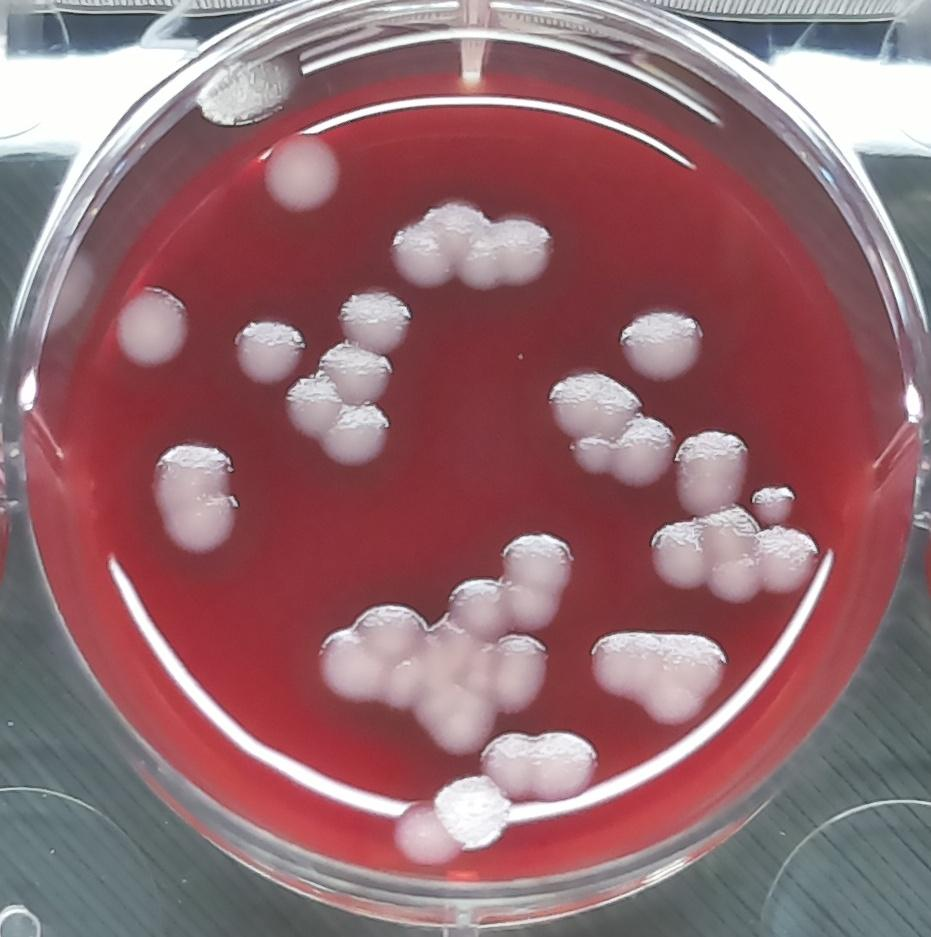bcereus: (542, 356, 679, 498), (386, 188, 560, 299), (589, 626, 742, 732), (448, 522, 586, 638), (142, 434, 250, 566), (281, 339, 395, 461), (480, 722, 609, 807), (250, 123, 349, 222), (614, 300, 715, 396), (666, 421, 752, 518), (108, 284, 197, 376), (225, 309, 306, 390), (333, 284, 417, 357), (746, 476, 801, 534)
